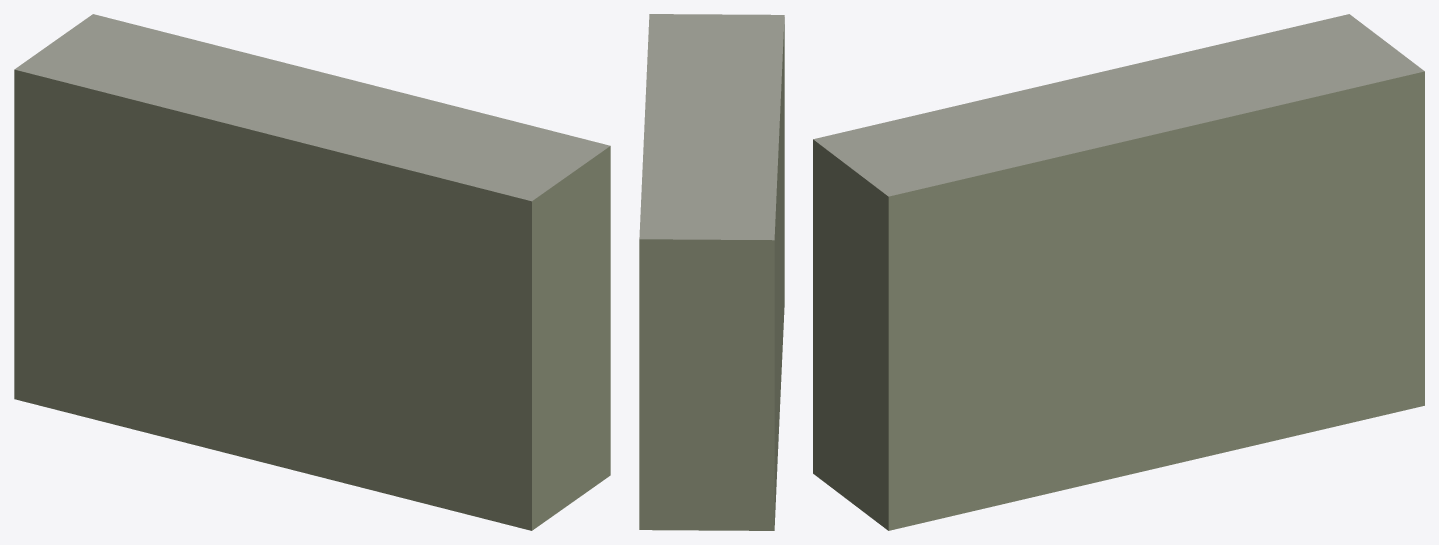
The model's file is nyc-1016013-0.glb.
3 views of the same model, side by side, from view 1: azimuth 30°, elevation 25°; view 2: azimuth 150°, elevation 25°; view 3: azimuth 270°, elevation 25° (orthographic). The views are drawn at different scales.
Parts seen in each view (by area): view 1: nyc-1016013-0; view 2: nyc-1016013-0; view 3: nyc-1016013-0.
Part boxes in pixels (x1,y1,x2,y2): nyc-1016013-0: [14, 14, 610, 530]; nyc-1016013-0: [639, 14, 784, 530]; nyc-1016013-0: [813, 14, 1424, 530].
Bounding box in the file's own units: 19.92 × 17 × 28.2.
